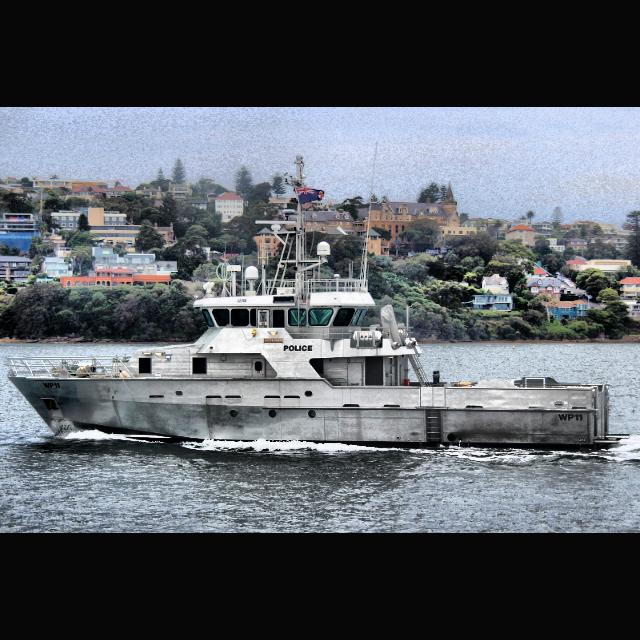patrol_vessel: (6, 154, 632, 452)
